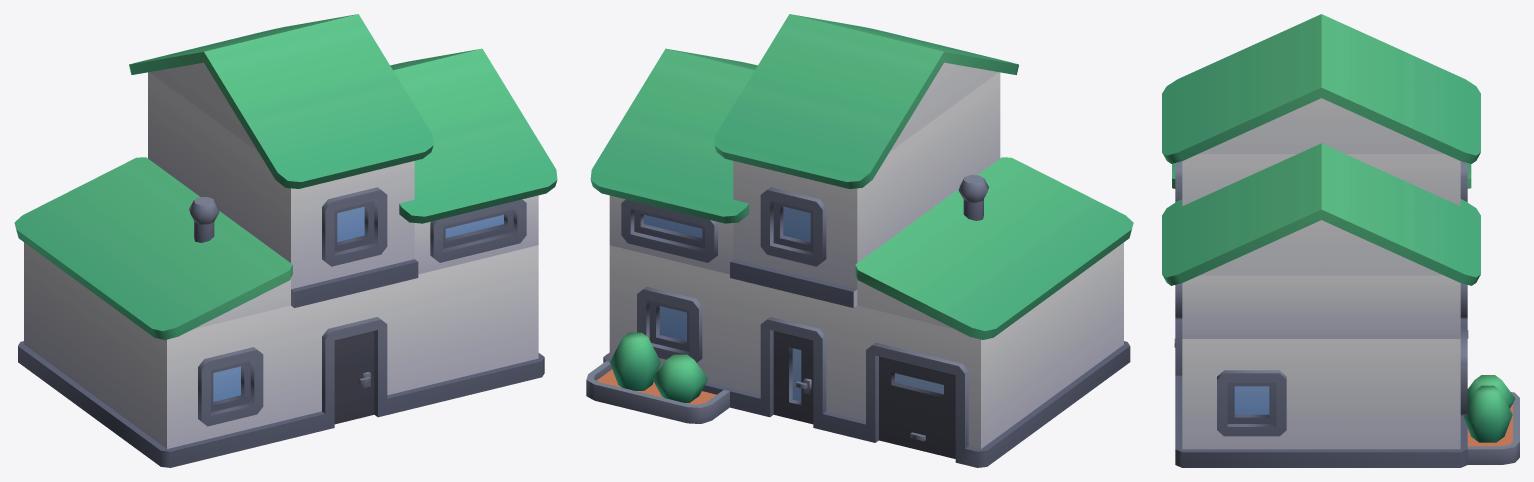
File: kenney-city-suburban-building-type-c.glb
3 renders of one model, left to right at view 1: azimuth 30°, elevation 25°; view 2: azimuth 150°, elevation 25°; view 3: azimuth 270°, elevation 25°, orthographic. The views are drawn at different scales.
Parts seen in each view (by area): view 1: building-type-c; view 2: building-type-c; view 3: building-type-c.
Part boxes in pixels (x1=…): building-type-c: x1=14, y1=14, x2=557, y2=467; building-type-c: x1=586, y1=14, x2=1133, y2=467; building-type-c: x1=1162, y1=14, x2=1519, y2=467.
Size of the model in its own units: 1.29 by 1.03 by 1.03.
Materials: 1 (1 with a texture image).
